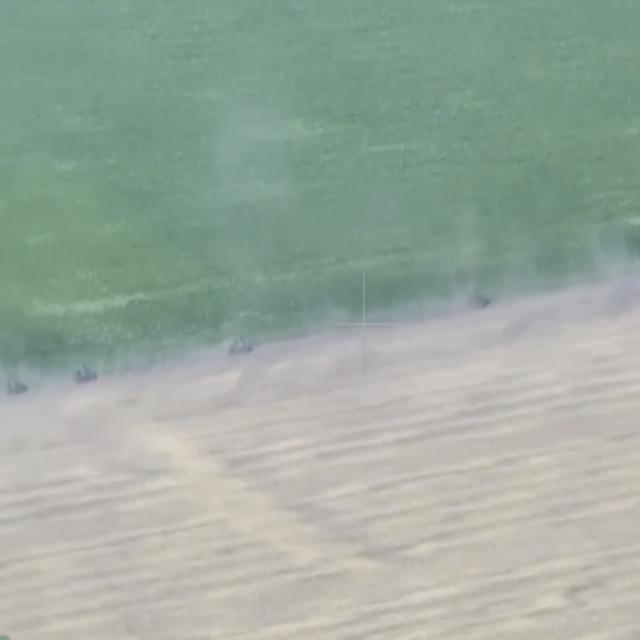vehicle: (228, 335, 254, 358), (467, 287, 488, 309), (75, 366, 97, 384), (7, 375, 26, 393)
